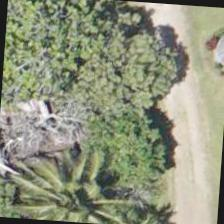Kelapa_Sawit: (26, 150, 122, 224)
